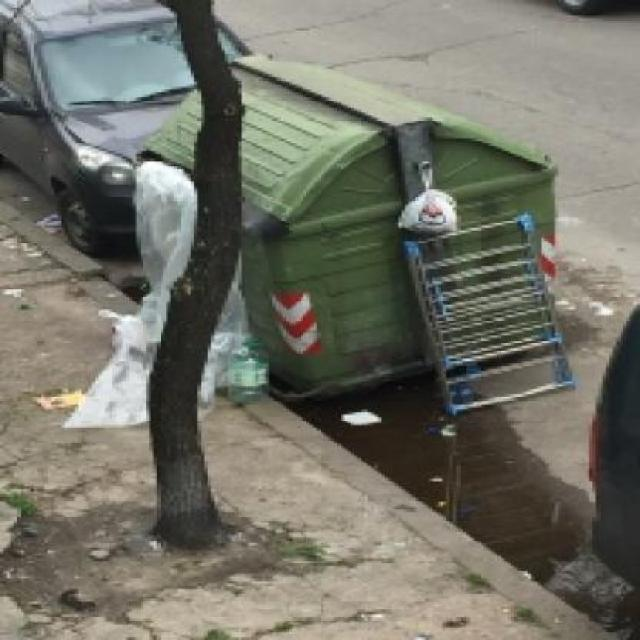garbage: (399, 166, 583, 409), (123, 150, 178, 416), (337, 405, 378, 433)
